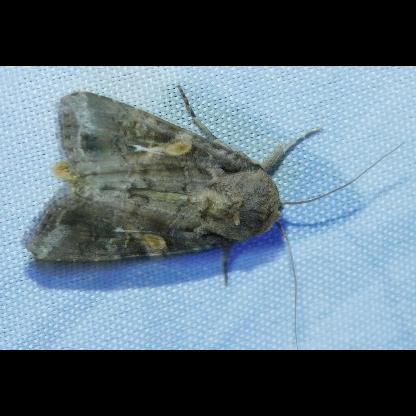Fall Armyworm Moth: (18, 81, 410, 351)
